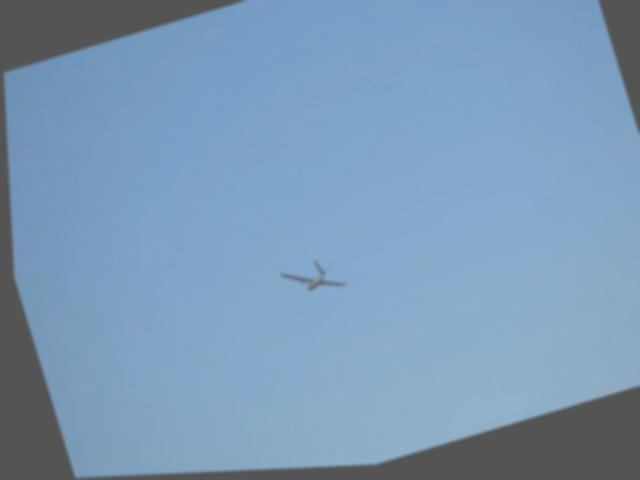uav: (263, 245, 350, 320)
